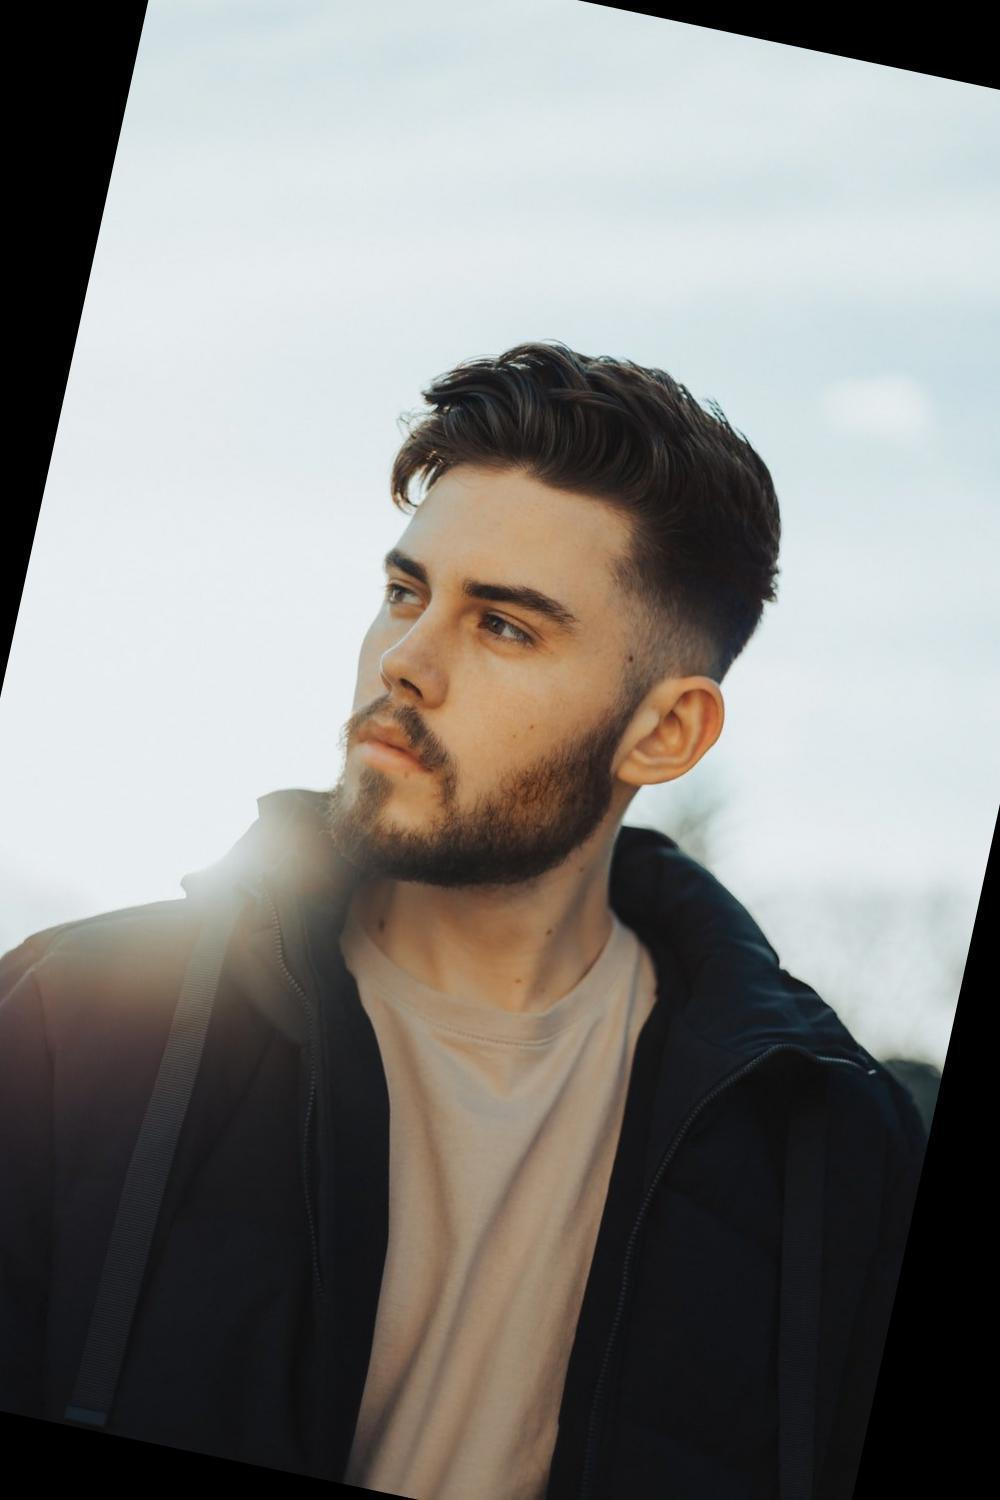Sober: (348, 467, 606, 871)
